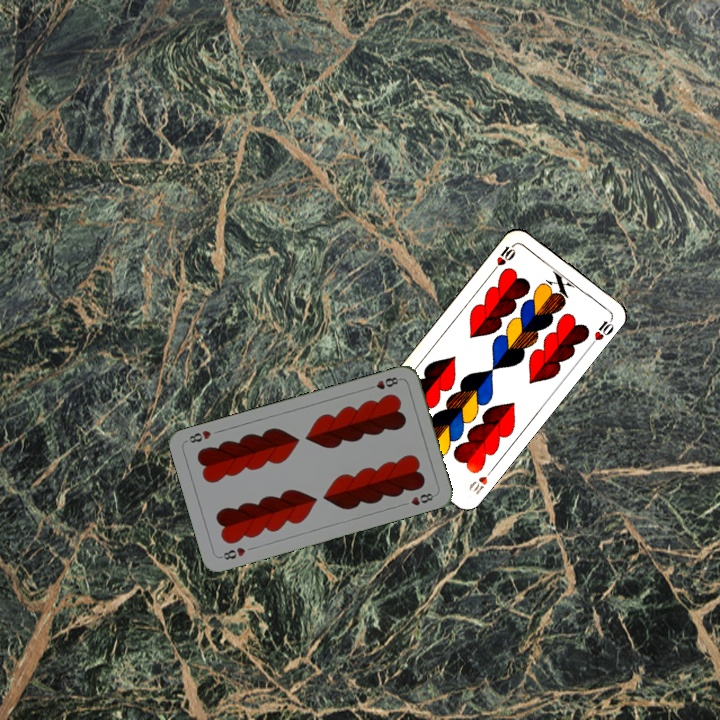H10: (464, 464, 497, 498), (489, 239, 518, 274)
H8: (364, 373, 403, 392), (216, 543, 248, 562)
